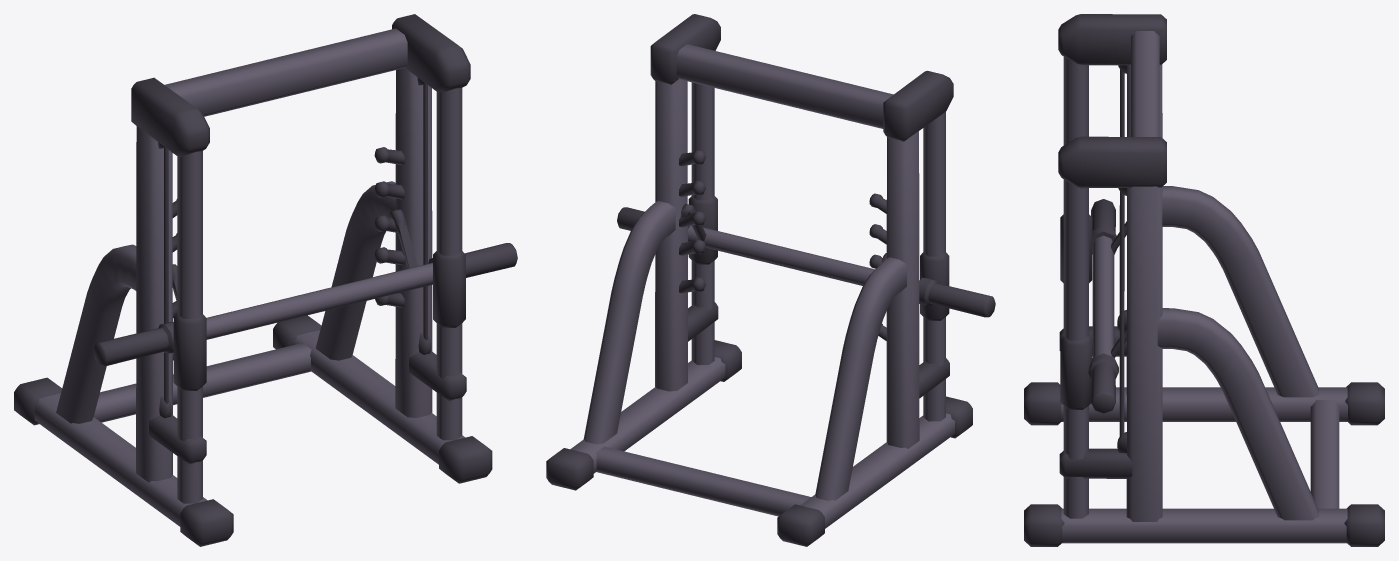
File: Smith_Machine_v01.fbx
The picture shows the model from 3 angles, left to right: view 1: azimuth 30°, elevation 25°; view 2: azimuth 150°, elevation 25°; view 3: azimuth 270°, elevation 25°; orthographic projection. The views are drawn at different scales.
Parts seen in each view (by area): view 1: Smith_Machine_v01; view 2: Smith_Machine_v01; view 3: Smith_Machine_v01.
Part boxes in pixels (x1,y1,x2,y2): Smith_Machine_v01: (14, 14, 517, 546); Smith_Machine_v01: (546, 14, 995, 546); Smith_Machine_v01: (1024, 14, 1384, 546).
Size of the model in its own units: 1.55 by 1.48 by 1.21.
1 material, 1 textured.
